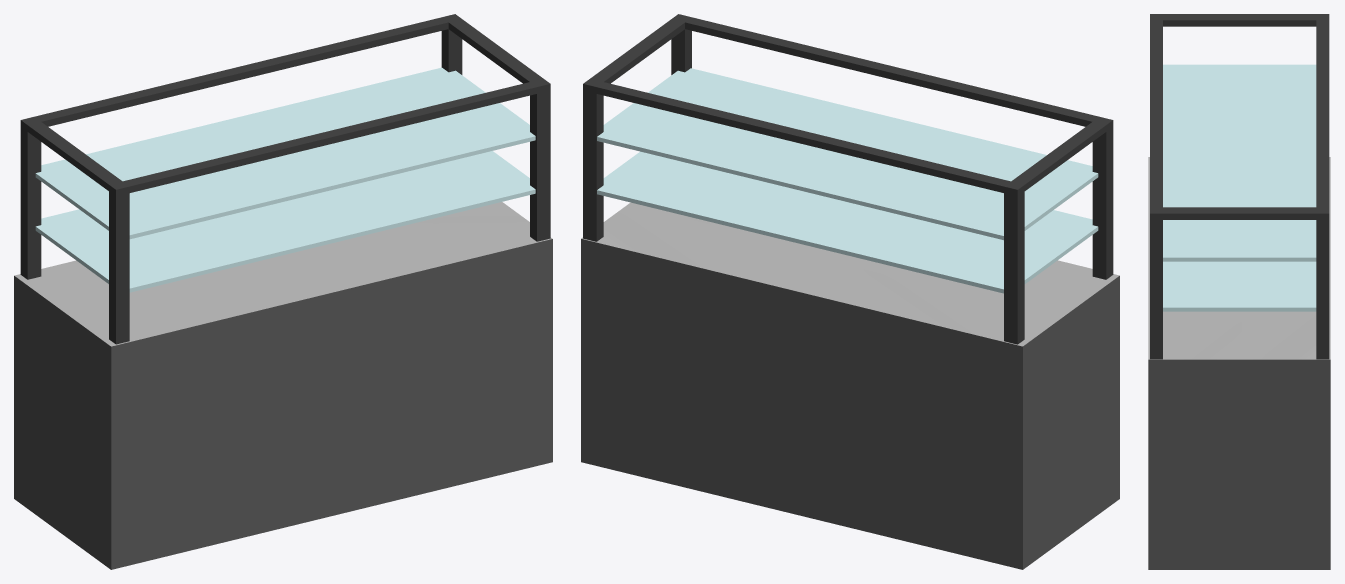
File: shop_071.glb
3 renders of one model, left to right at view 1: azimuth 30°, elevation 25°; view 2: azimuth 150°, elevation 25°; view 3: azimuth 270°, elevation 25°, orthographic. The views are drawn at different scales.
Parts seen in each view (by area): view 1: shop_071; view 2: shop_071; view 3: shop_071.
Boxes of the visible parts, x1=… form: shop_071: x1=14, y1=14, x2=552, y2=569; shop_071: x1=581, y1=14, x2=1119, y2=569; shop_071: x1=1148, y1=14, x2=1330, y2=569.
Bounding box in the file's own units: 1.47 × 1.21 × 0.5609.
Materials: 1 (1 with a texture image).
